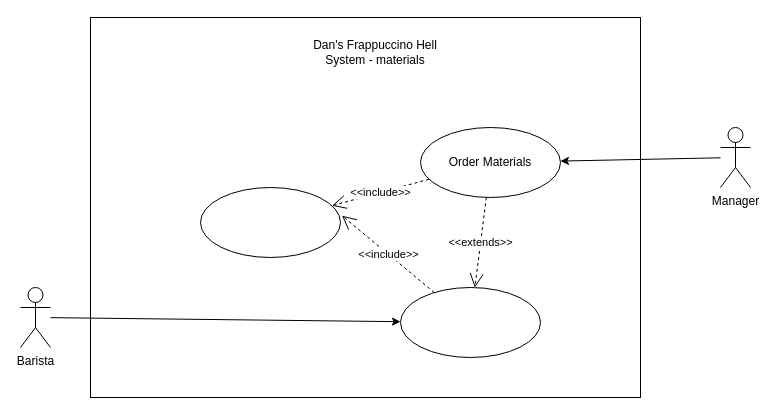
This 776x415 diagram has some shape labels left out. Here are the shapes that lost their labels. From the top down, the centre of each, then its label:
At pixel 270 222: "Log in".
At pixel 470 322: "View Stock".
